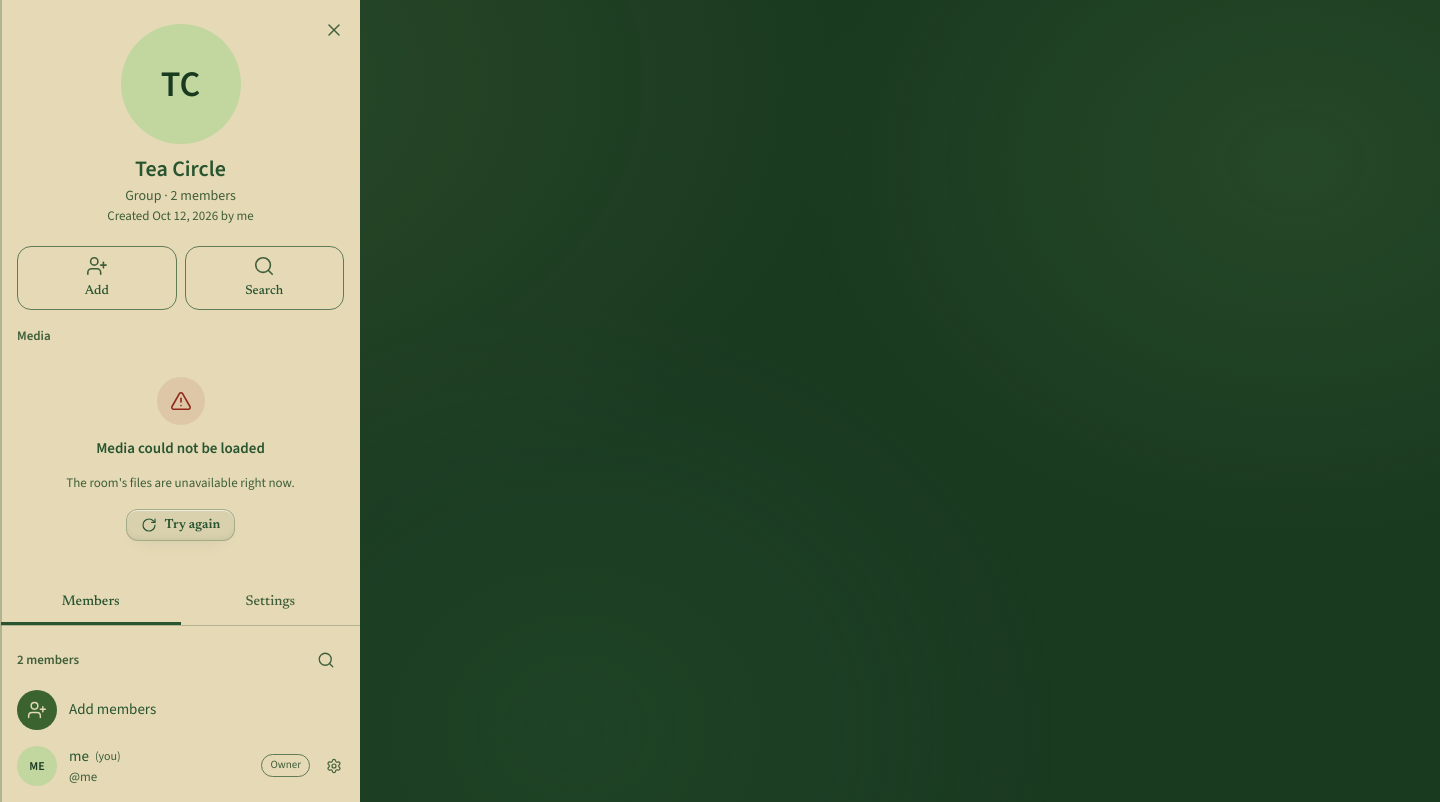
it: GroupInfoPanel › opens the add-members view with the explanation, a search field and a sticky action
Click the button "Add": x=97, y=278 [17,246,176,310]
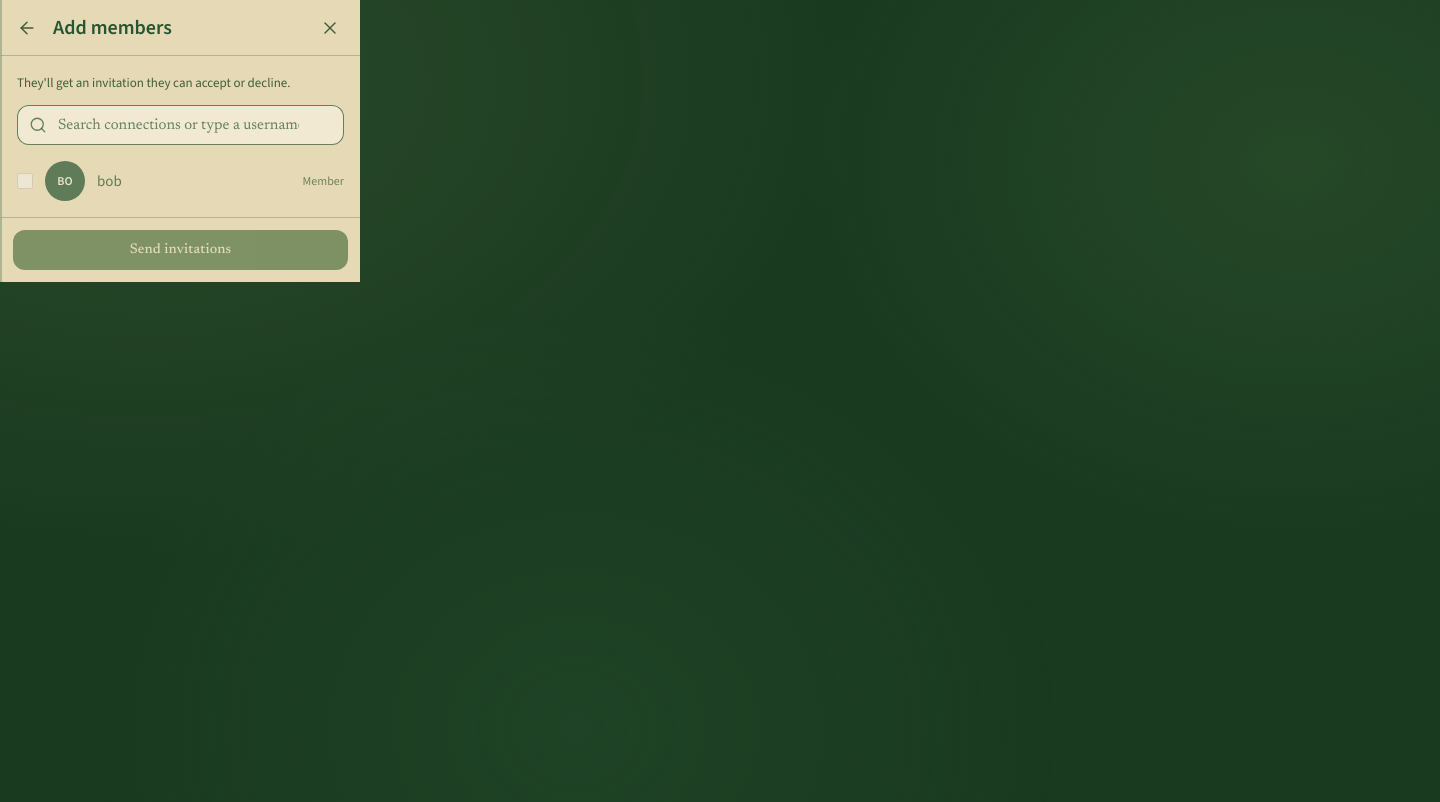
Expected: the text "They'll get an invitation they can accept or decline." is shown, [17,74,290,91]
Expected: the dropdown named "Find someone by username" is shown, [17,105,344,145]
Expected: the checkbox labelled "bob" is shown, [17,173,33,189]
Click the button named "Back to group info": x=27, y=28 [9,10,45,46]
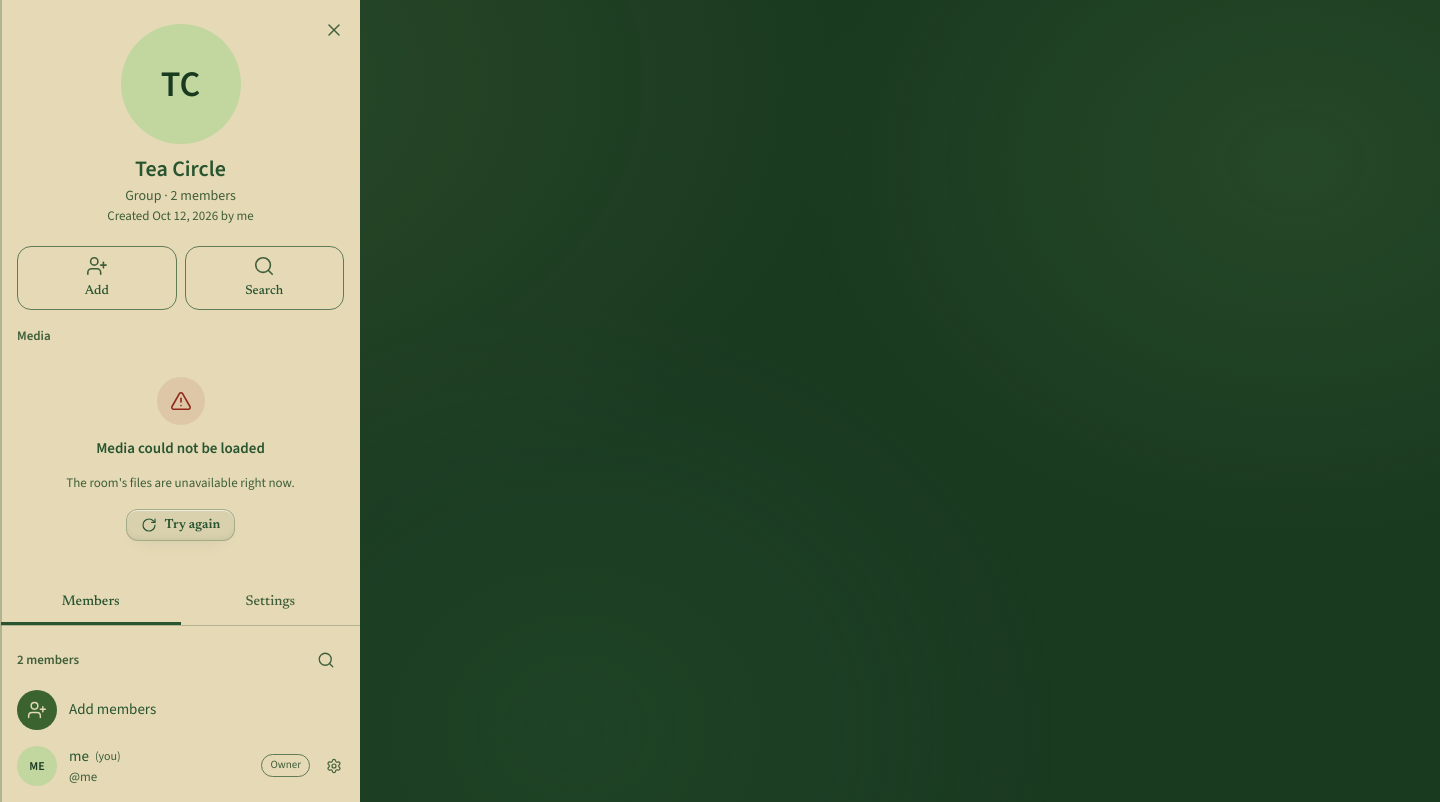
Expected: the heading "Tea Circle" is shown, [135,154,226,183]
